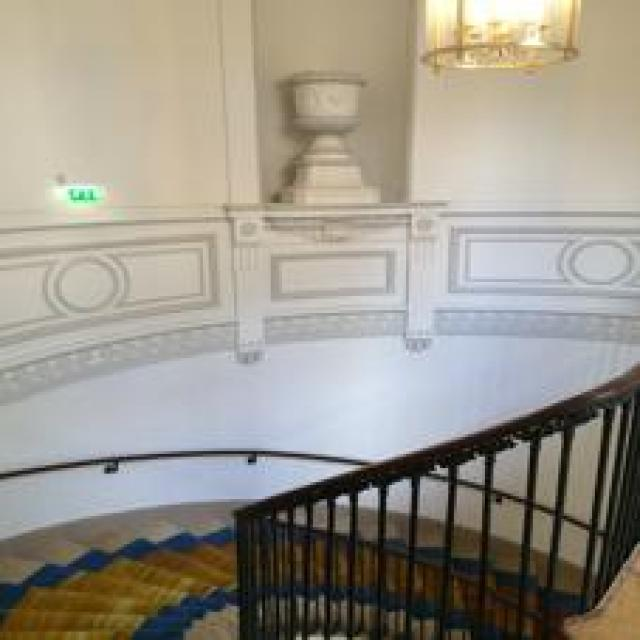downstairs: (0, 501, 240, 638)
